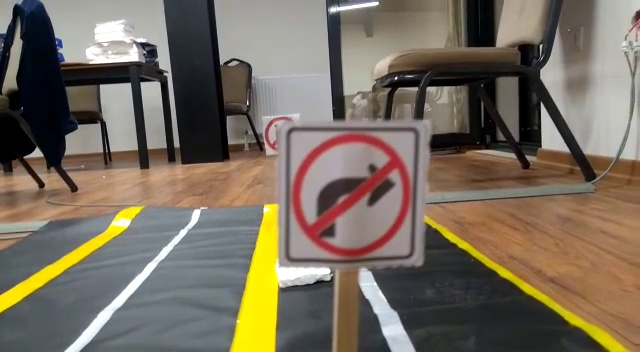saga_donulmez: (281, 134, 413, 259)
